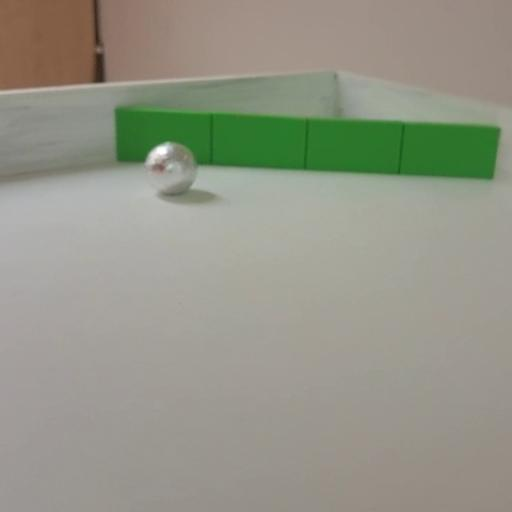alive: (144, 142, 197, 196)
